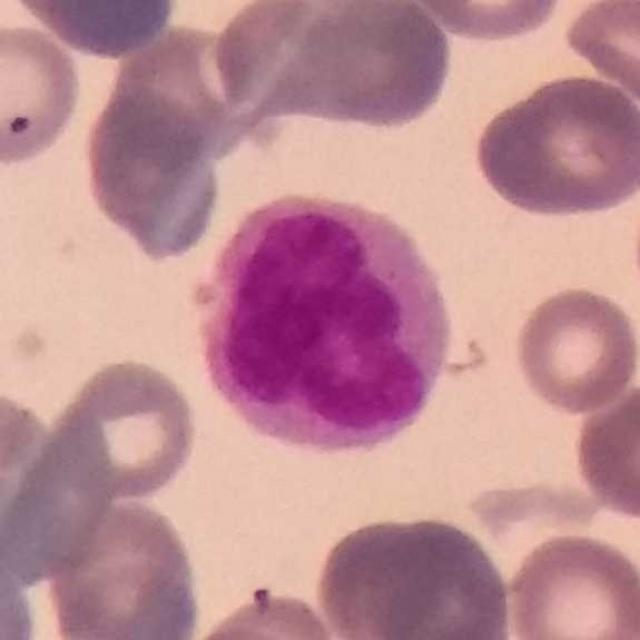mono: (184, 189, 464, 459)
